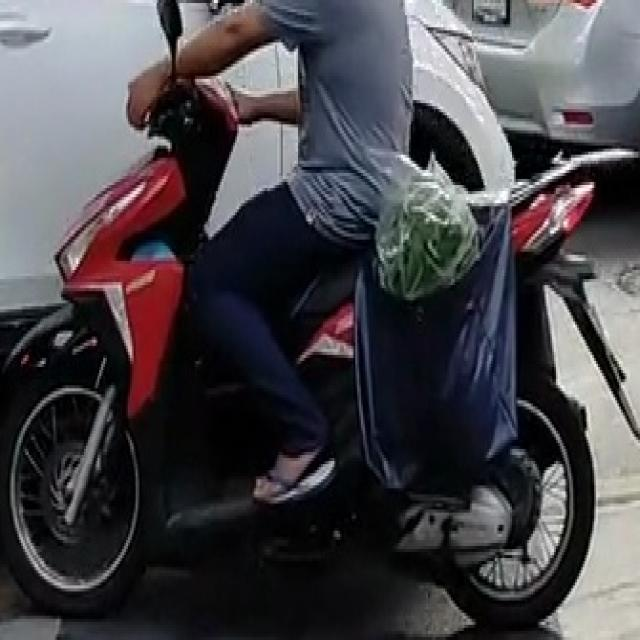door: (470, 0, 510, 24)
helmet: (145, 73, 239, 224)
tyre: (441, 376, 596, 625)
